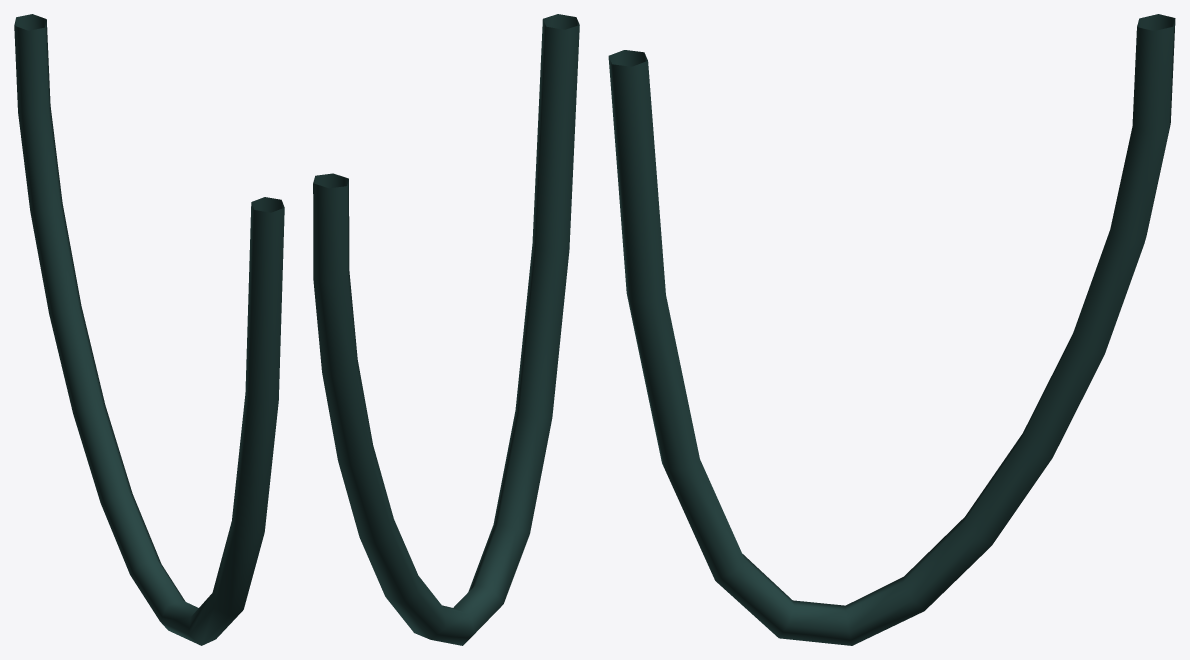
Rendered from wire_2.glb.
3 renders of one model, left to right at view 1: azimuth 30°, elevation 25°; view 2: azimuth 150°, elevation 25°; view 3: azimuth 270°, elevation 25°, orthographic. The views are drawn at different scales.
Visible parts, largest first — view 1: wire_2_mesh; view 2: wire_2_mesh; view 3: wire_2_mesh.
Boxes of the visible parts, x1=… form: wire_2_mesh: x1=14, y1=14, x2=284, y2=645; wire_2_mesh: x1=313, y1=14, x2=579, y2=645; wire_2_mesh: x1=608, y1=14, x2=1175, y2=645.
Bounding box in the file's own units: 0.1549 × 1.6 × 1.34.
